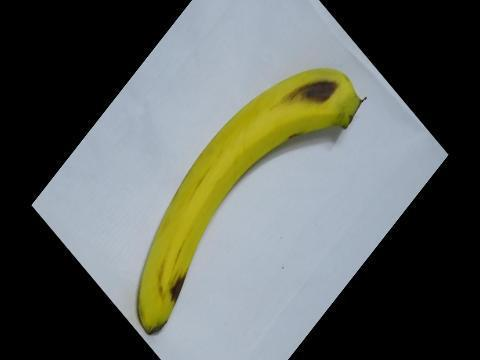freshripe: (115, 55, 376, 343)
